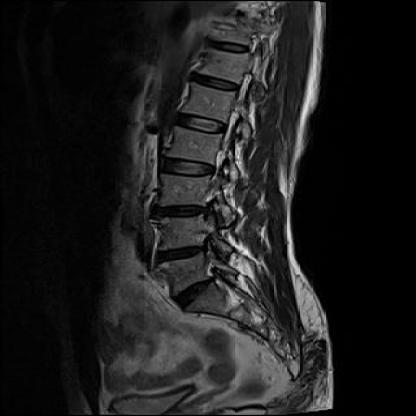Degenerative Disc Diseaserotation: (169, 277, 229, 308)
Disc Bulgerotation: (145, 202, 218, 227), (148, 242, 215, 268)
